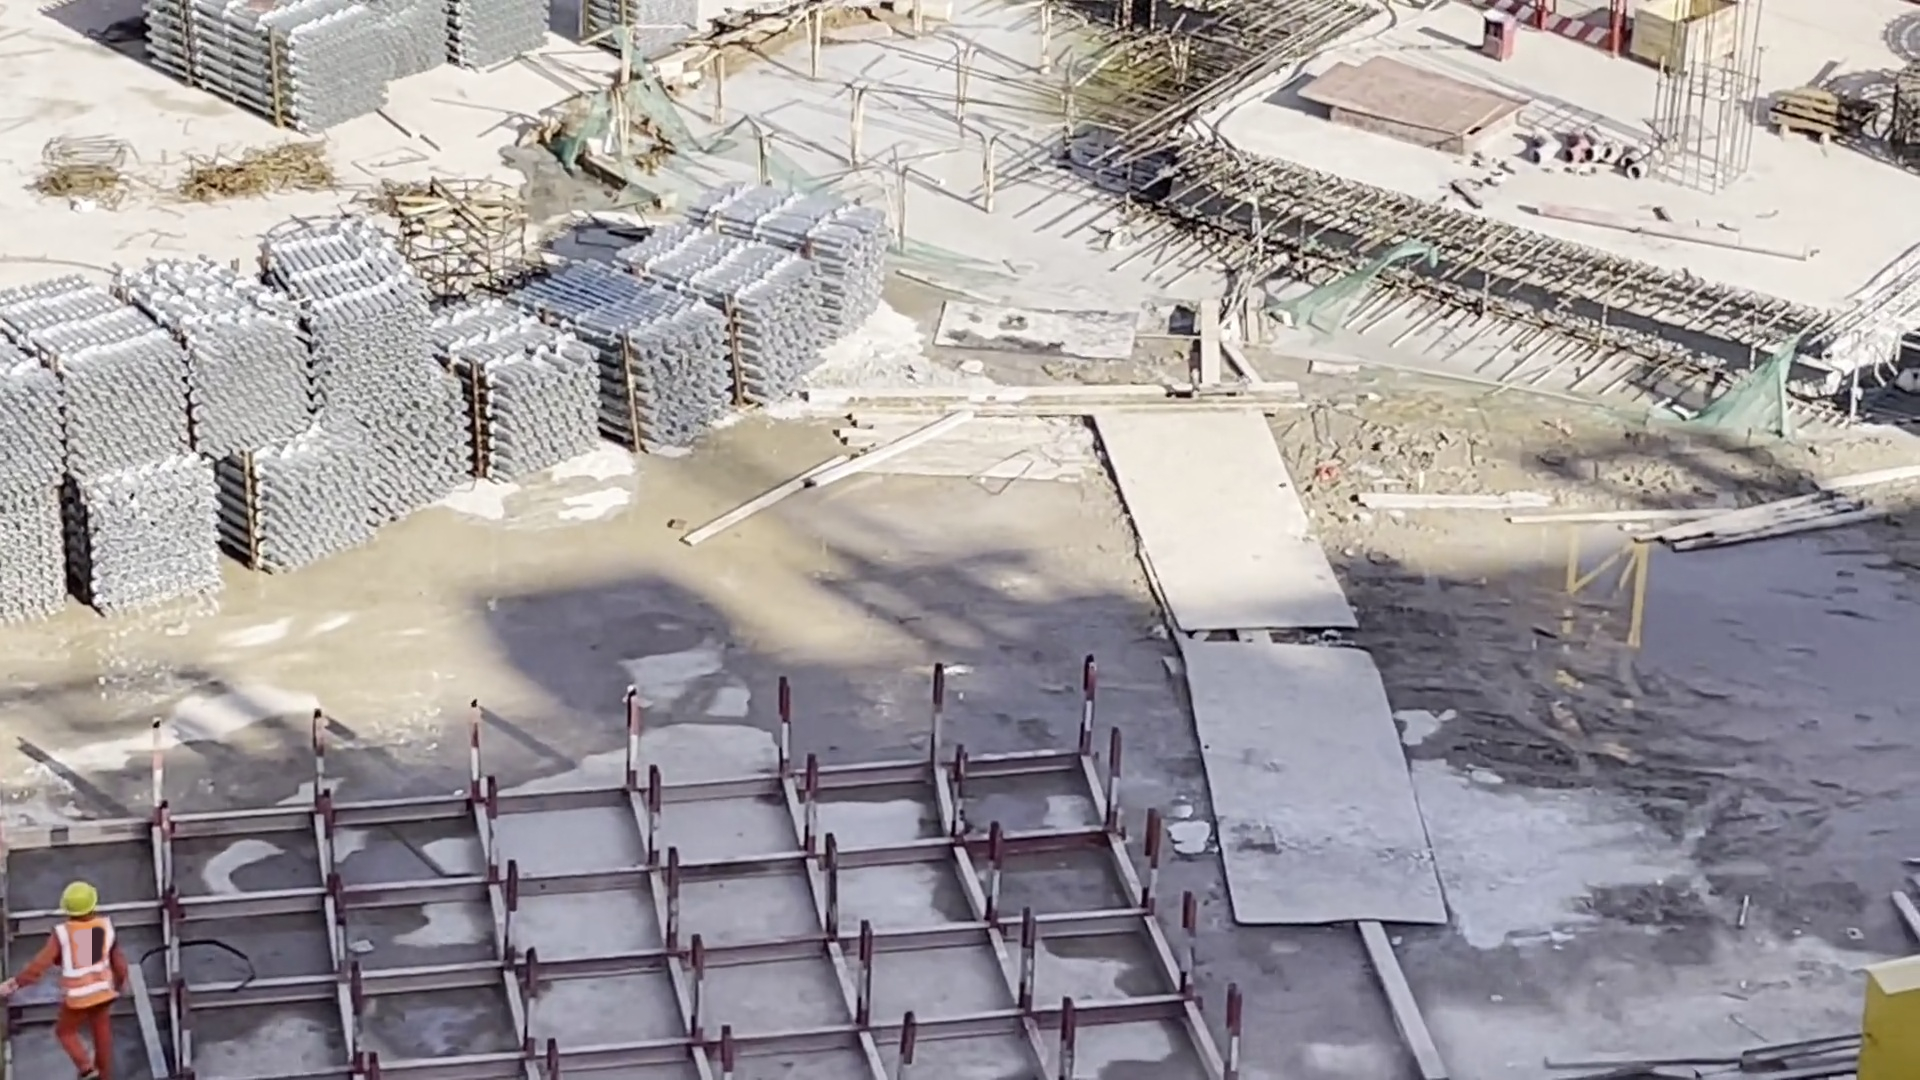board: (1293, 52, 1530, 155)
helmet: (50, 878, 116, 936)
person: (31, 880, 132, 1080)
scaffold: (1, 173, 927, 622), (141, 1, 705, 132)
vest: (56, 916, 125, 994)
